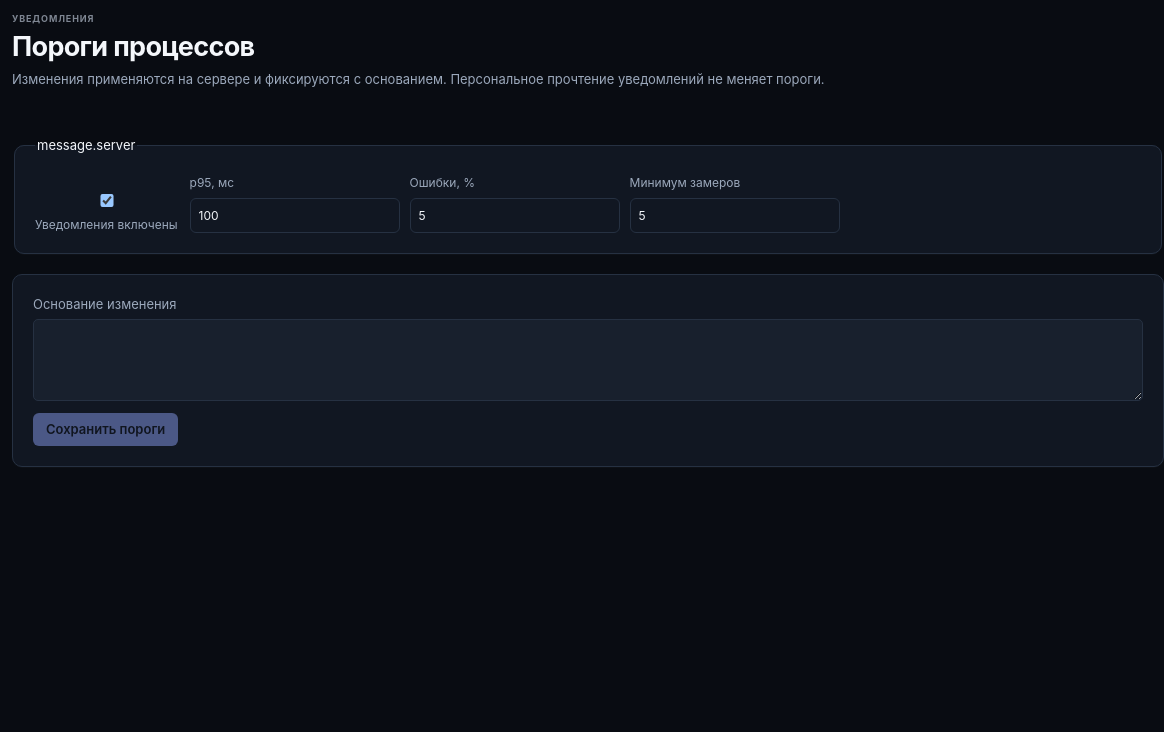
Test: operations safety and meaningful controls › sends display percentages as fractions and requires a change reason
Expected: the button "Сохранить пороги" is disabled, [33, 413, 178, 446]
Step 1. Replace the text in the number field labelled "Ошибки, %" with "10" → (515, 216), box [410, 198, 620, 233]
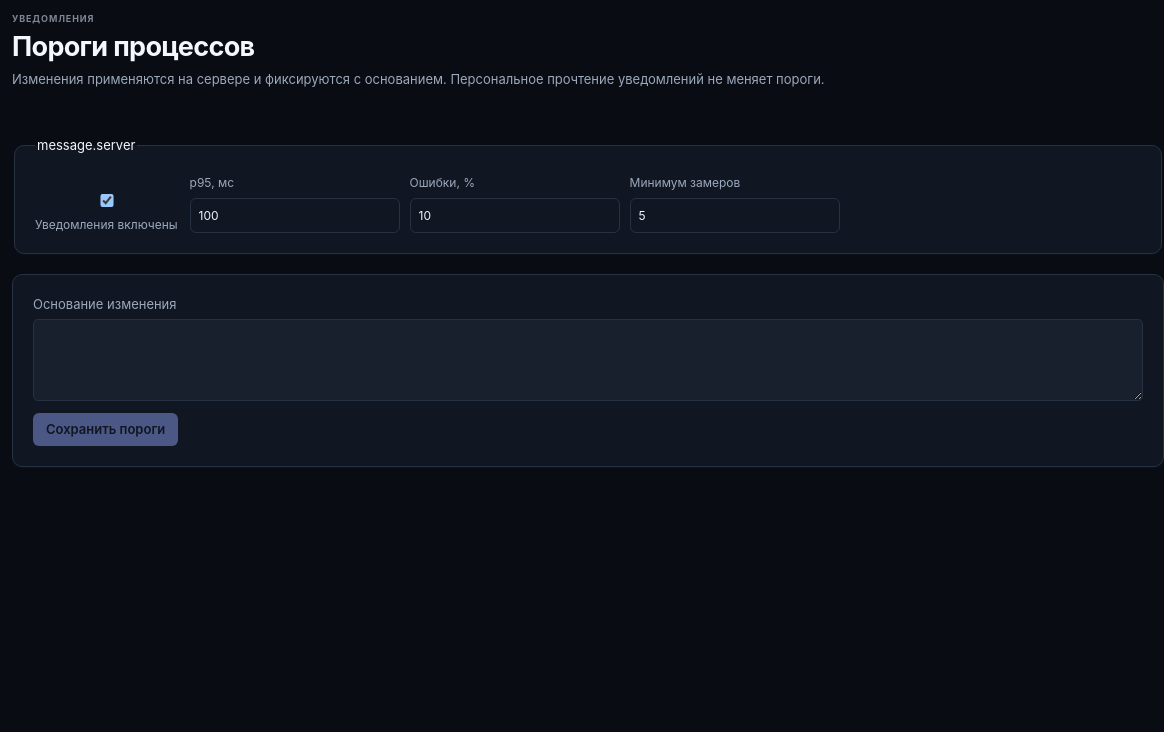
Step 2. Type "Настройка реального порога" into the text box labelled "Основание изменения" → (588, 360), box [33, 319, 1143, 401]
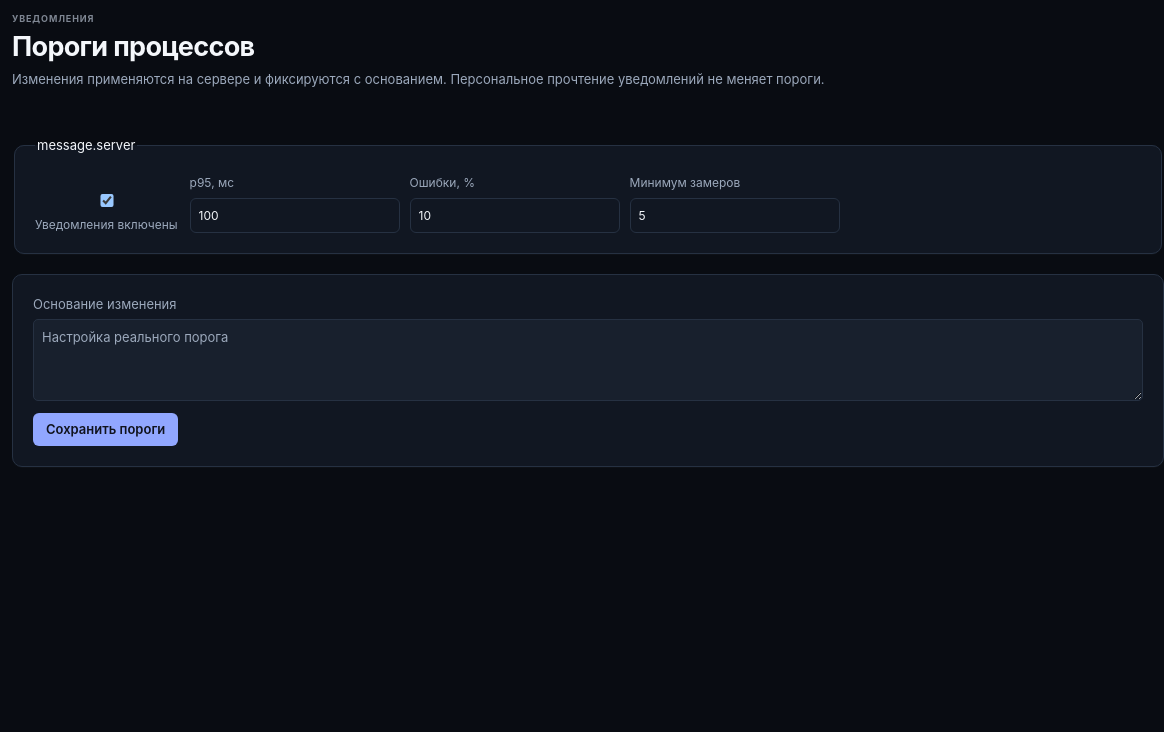
Step 3. Click the button "Сохранить пороги" → (106, 429), box [33, 413, 178, 446]
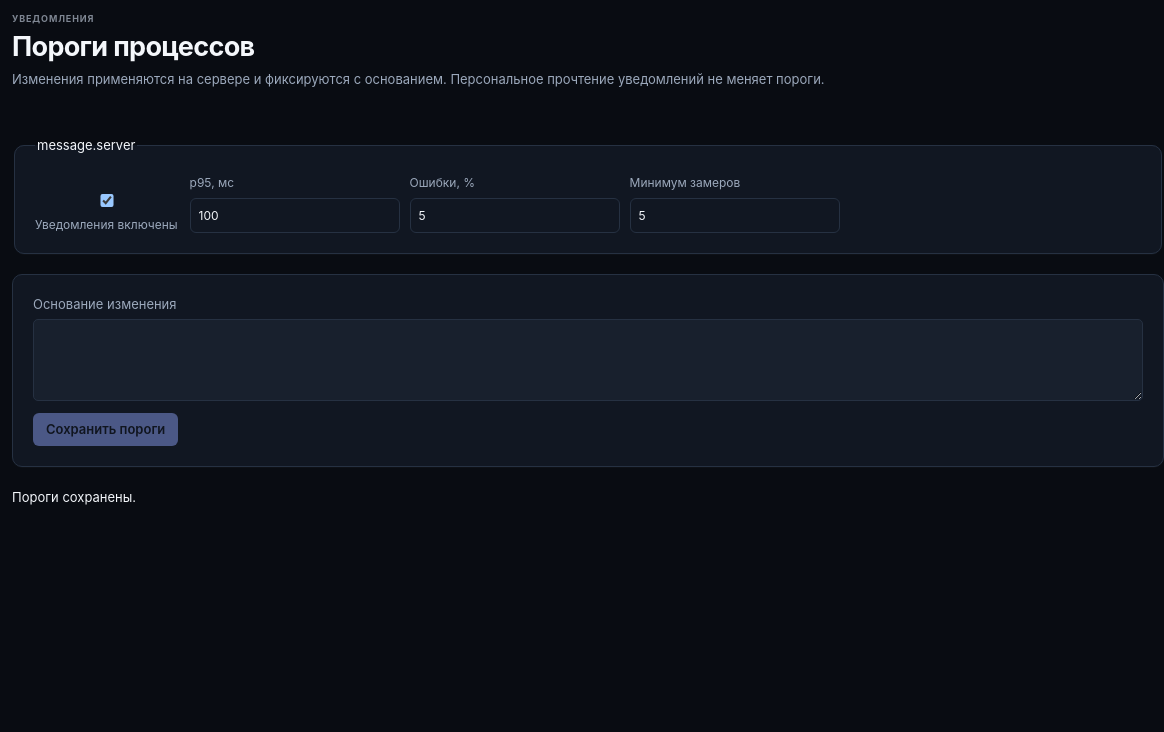
Now the text "Пороги сохранены." is shown, box [12, 489, 136, 505]
